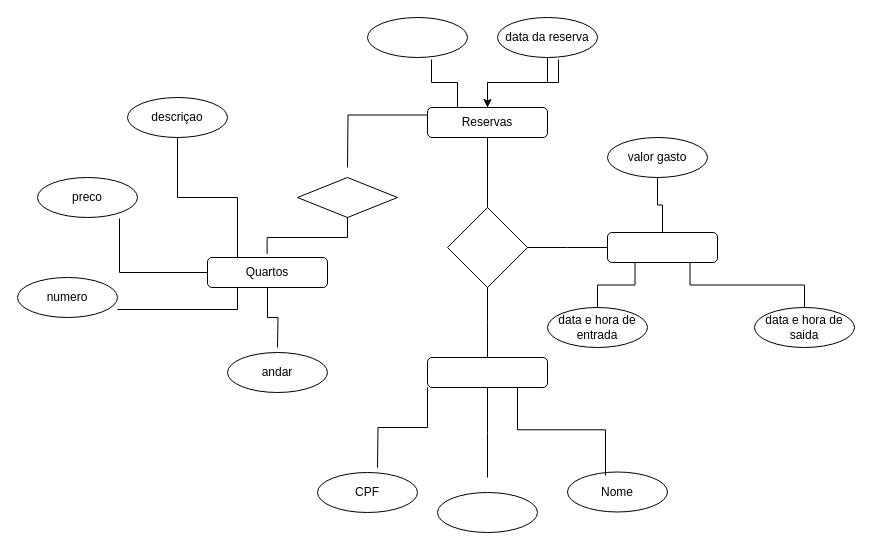
This 872x550 diagram has some shape labels left out. Each missing label, with the box of its shape:
Clientes: (426, 356, 548, 388)
contem: (296, 176, 398, 218)
hospedagem: (606, 232, 718, 262)
Hotel: (446, 206, 528, 288)
quantidades de dias de estadia: (366, 16, 468, 58)
RG: (436, 492, 538, 532)
